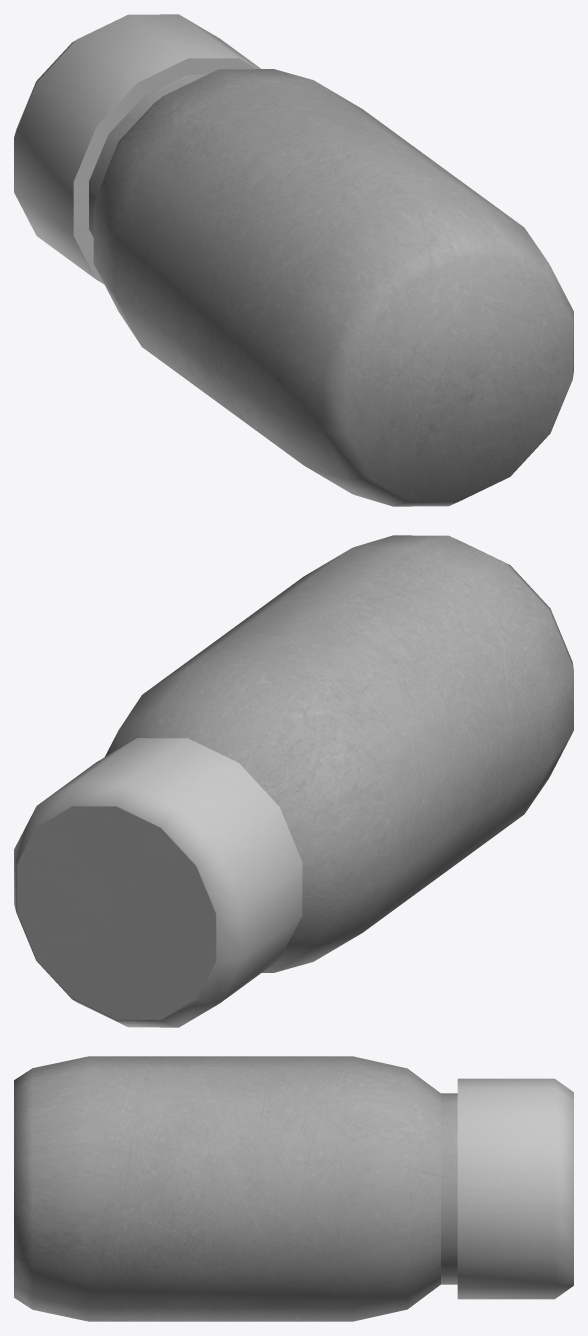
File: Fixed_Item_Bottle XSmall_Ver1.fbx
3 renders of one model, top to bottom at view 1: azimuth 30°, elevation 25°; view 2: azimuth 150°, elevation 25°; view 3: azimuth 270°, elevation 25°, orthographic. The views are drawn at different scales.
Visible parts, largest first — view 1: Pill Bottle xsmall_body, Pill Bottle xsmall_cap; view 2: Pill Bottle xsmall_body, Pill Bottle xsmall_cap; view 3: Pill Bottle xsmall_body, Pill Bottle xsmall_cap.
Boxes of the visible parts, x1=… form: Pill Bottle xsmall_body: x1=89, y1=69, x2=573, y2=506; Pill Bottle xsmall_cap: x1=14, y1=14, x2=260, y2=283; Pill Bottle xsmall_body: x1=105, y1=535, x2=573, y2=972; Pill Bottle xsmall_cap: x1=14, y1=738, x2=302, y2=1027; Pill Bottle xsmall_body: x1=14, y1=1056, x2=457, y2=1321; Pill Bottle xsmall_cap: x1=457, y1=1078, x2=573, y2=1299.
Size of the model in its own units: 41.38 by 42.44 by 89.51.
Materials: 1 (1 with a texture image).
